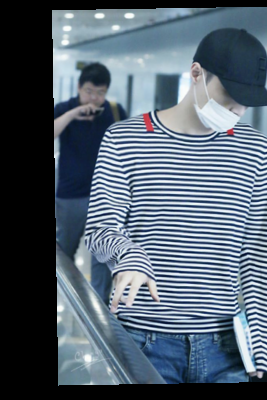mask_weared_incorrect: (187, 17, 267, 160)
